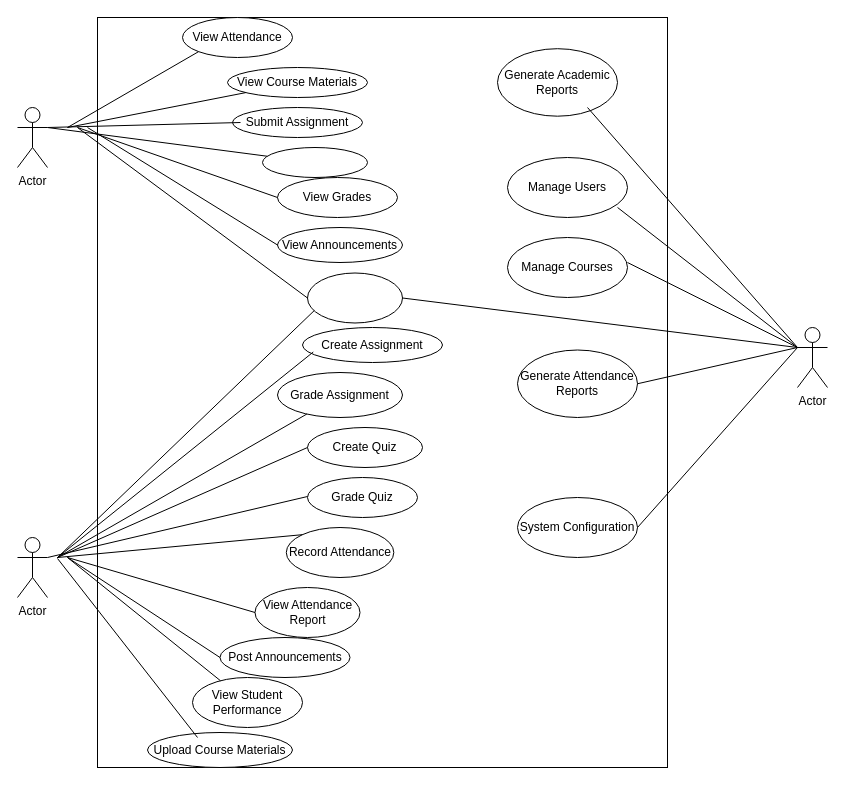
The diagram is 845 pixels wide and 785 high, and some of its shapes have lost their labels. Each missing label, with the centre of its shape:
"Login" goes at point (354, 297).
"Take Quiz" goes at point (315, 162).
